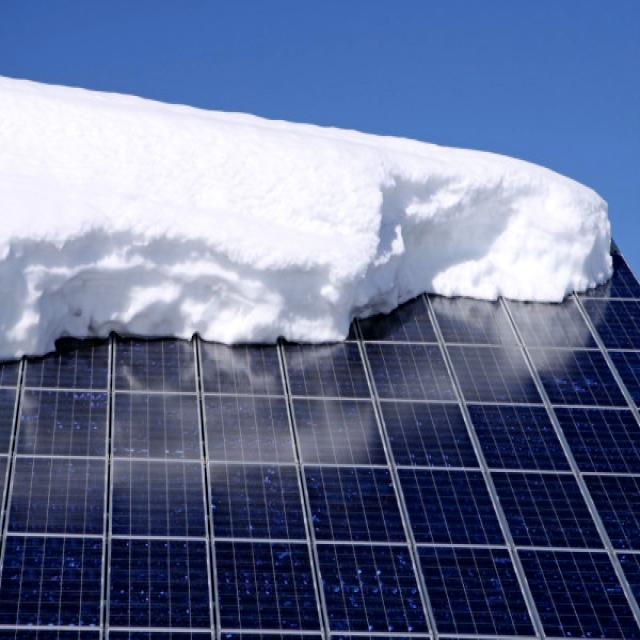panel: (213, 99, 394, 351), (404, 128, 618, 320), (58, 84, 210, 350), (0, 67, 50, 371)
